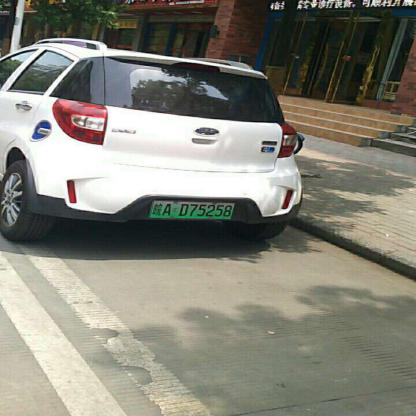lp: (150, 199, 235, 219)
